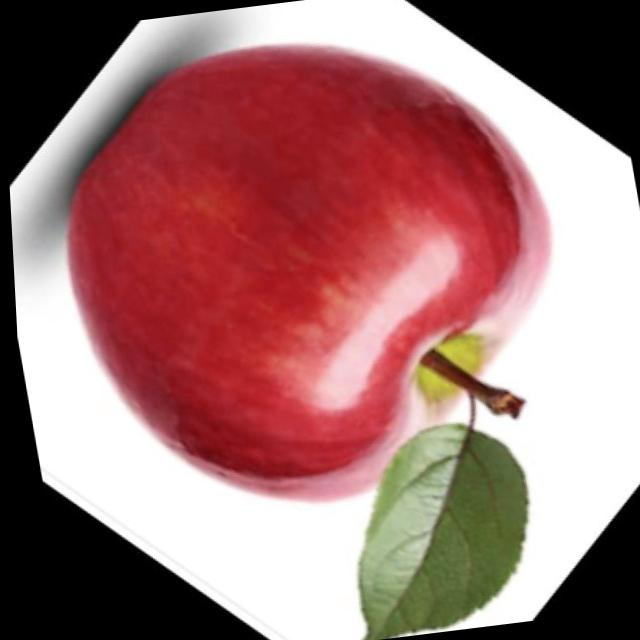Apple: (29, 14, 593, 531)
